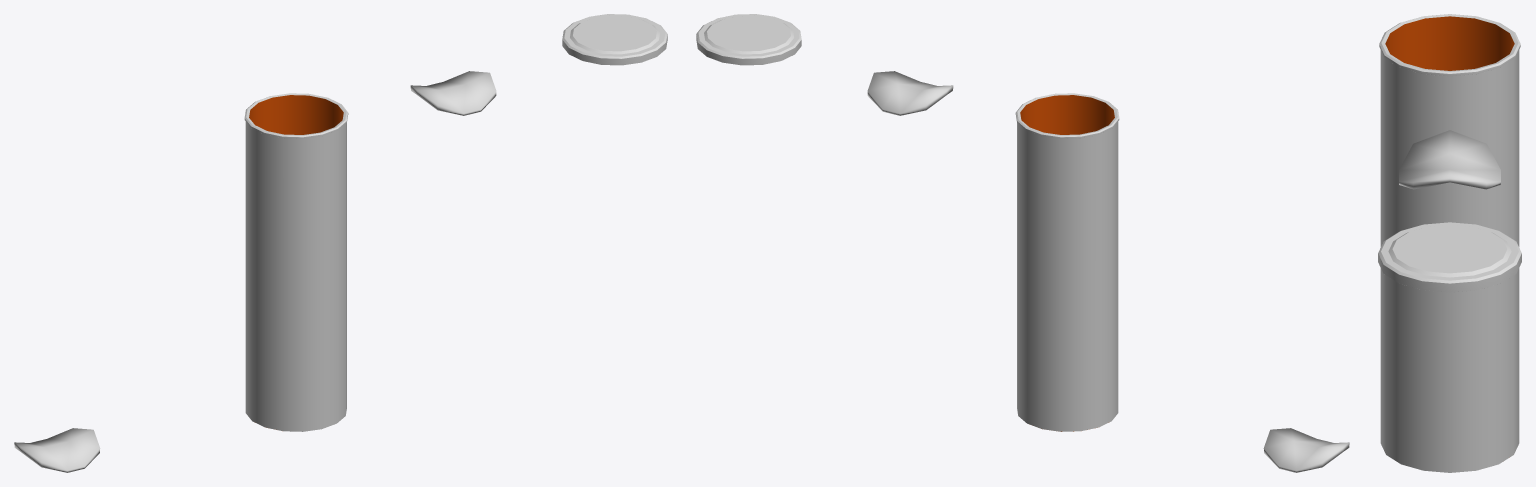
The model's file is SM_ChipsCanExploded.fbx.
The picture shows the model from 3 angles, left to right: view 1: azimuth 30°, elevation 25°; view 2: azimuth 150°, elevation 25°; view 3: azimuth 270°, elevation 25°; orthographic projection. The views are drawn at different scales.
Visible parts, largest first — view 1: CanBase, CanLid, CanChip, CanChip_Tower; view 2: CanBase, CanLid, CanChip, CanChip_Tower; view 3: CanBase, CanLid, CanChip.
Boxes of the visible parts, left/top/right/bottom form: CanBase: left=244, top=93, right=348, bottom=431; CanLid: left=562, top=14, right=667, bottom=65; CanChip: left=410, top=71, right=496, bottom=115; CanChip_Tower: left=14, top=428, right=100, bottom=472; CanBase: left=1015, top=93, right=1119, bottom=431; CanLid: left=696, top=14, right=801, bottom=65; CanChip: left=867, top=71, right=953, bottom=115; CanChip_Tower: left=1263, top=428, right=1349, bottom=472; CanBase: left=1379, top=14, right=1520, bottom=472; CanLid: left=1378, top=222, right=1521, bottom=292; CanChip: left=1399, top=130, right=1500, bottom=189.
Size of the model in its own units: 48.16 by 6.92 by 21.51.
